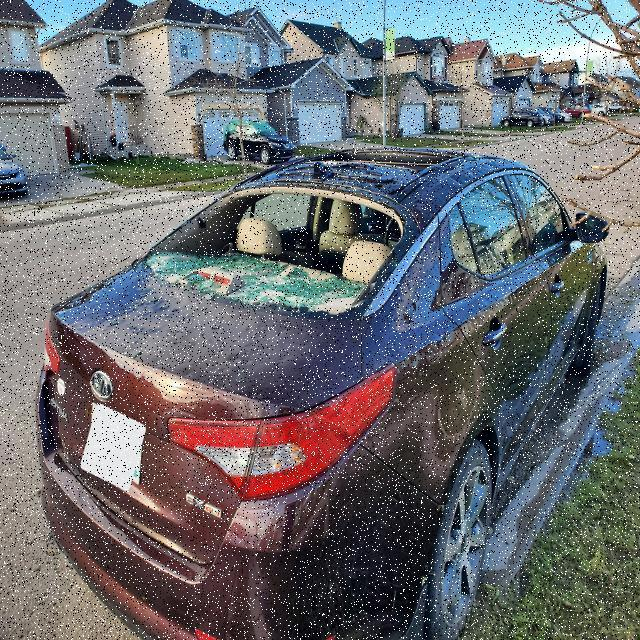Rear-windscreen-Damage: (144, 173, 430, 308)
